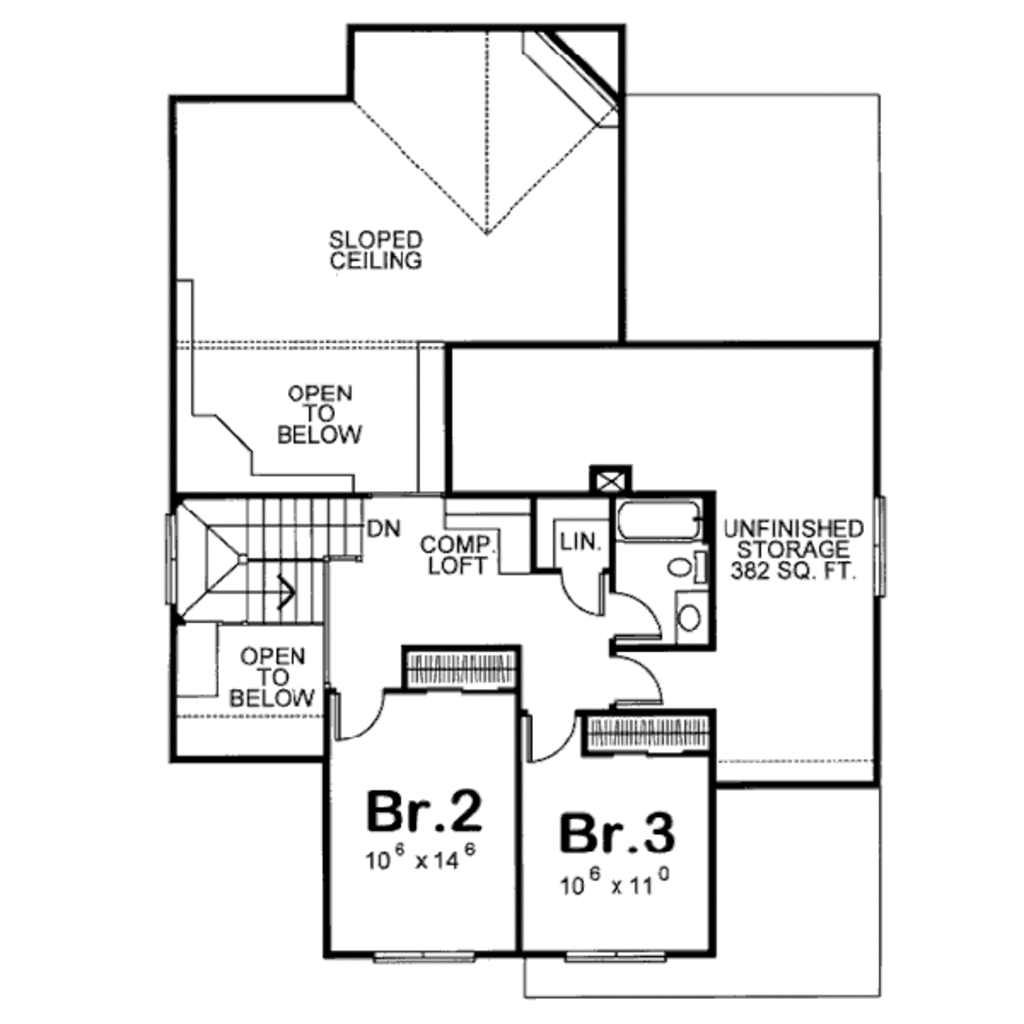door: (603, 587, 665, 649), (316, 684, 383, 741), (522, 711, 584, 768), (605, 652, 665, 709), (551, 562, 611, 617)
large_sink: (649, 547, 708, 587)
small_sink: (673, 592, 718, 647)
stairs: (173, 489, 383, 620)
tub: (610, 490, 708, 547)
window: (860, 490, 902, 605), (368, 947, 484, 965), (560, 947, 676, 963), (165, 512, 183, 606)
